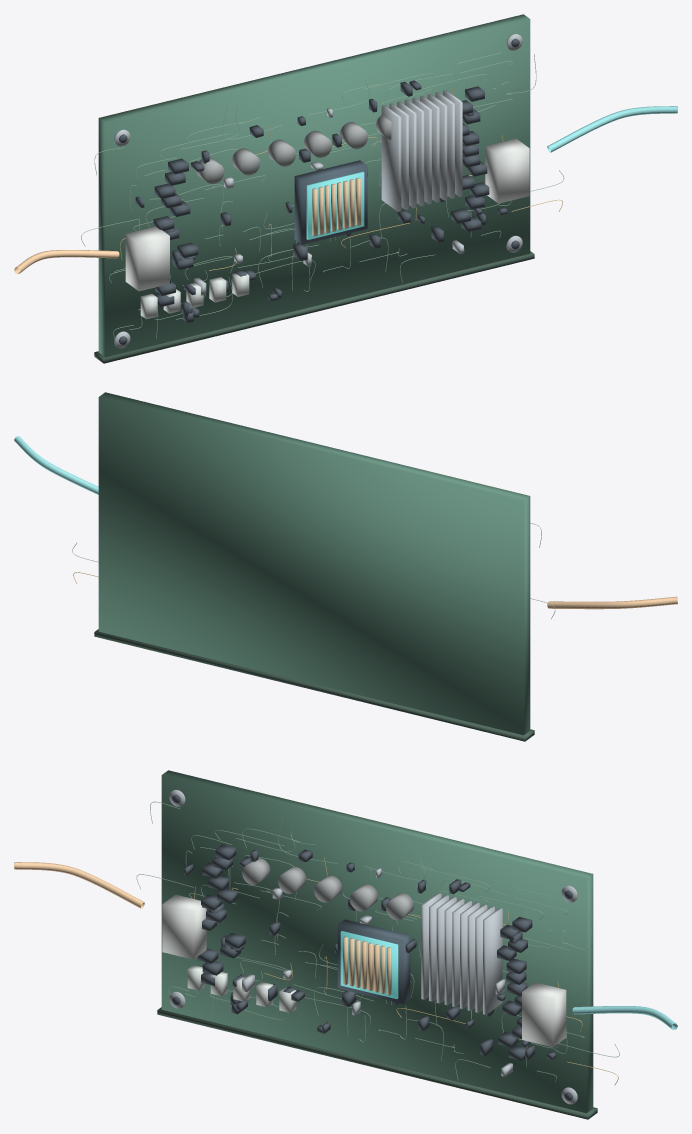
The model's file is pcb.glb.
3 views of the same model, one above another, from view 1: azimuth 30°, elevation 25°; view 2: azimuth 150°, elevation 25°; view 3: azimuth 330°, elevation 25° (orthographic).
Parts seen in each view (by area): view 1: pcb_node_0002, pcb_node_0003, pcb_node_0233, pcb_node_0234, pcb_node_0177, pcb_node_0213, pcb_node_0178, pcb_node_0236, pcb_node_0216, pcb_node_0219, pcb_node_0235, pcb_node_0220 (+9 smaller); view 2: pcb_node_0002, pcb_node_0003, pcb_node_0235, pcb_node_0236; view 3: pcb_node_0002, pcb_node_0003, pcb_node_0234, pcb_node_0233, pcb_node_0177, pcb_node_0221, pcb_node_0178, pcb_node_0235, pcb_node_0215, pcb_node_0216, pcb_node_0219, pcb_node_0213 (+10 smaller).
Boxes of the visible parts, bbox=[...] form: pcb_node_0002: bbox=[98, 14, 530, 357]; pcb_node_0003: bbox=[94, 251, 534, 363]; pcb_node_0233: bbox=[125, 226, 169, 291]; pcb_node_0234: bbox=[485, 138, 529, 203]; pcb_node_0177: bbox=[294, 160, 367, 244]; pcb_node_0213: bbox=[381, 105, 401, 211]; pcb_node_0178: bbox=[306, 171, 364, 239]; pcb_node_0236: bbox=[547, 106, 677, 152]; pcb_node_0216: bbox=[404, 99, 424, 206]; pcb_node_0219: bbox=[427, 94, 447, 200]; pcb_node_0235: bbox=[14, 250, 119, 273]; pcb_node_0220: bbox=[435, 92, 454, 198]; pcb_node_0002: bbox=[98, 392, 530, 735]; pcb_node_0003: bbox=[94, 629, 534, 741]; pcb_node_0235: bbox=[547, 596, 677, 609]; pcb_node_0236: bbox=[14, 436, 98, 494]; pcb_node_0002: bbox=[161, 770, 593, 1113]; pcb_node_0003: bbox=[157, 1007, 597, 1119]; pcb_node_0234: bbox=[522, 982, 566, 1047]; pcb_node_0233: bbox=[162, 894, 206, 959]; pcb_node_0177: bbox=[337, 919, 410, 1003]; pcb_node_0221: bbox=[483, 908, 502, 1014]; pcb_node_0178: bbox=[340, 931, 398, 998]; pcb_node_0235: bbox=[14, 862, 144, 908]; pcb_node_0215: bbox=[436, 896, 456, 1003]; pcb_node_0216: bbox=[444, 898, 464, 1005]; pcb_node_0219: bbox=[467, 904, 487, 1010]; pcb_node_0213: bbox=[421, 893, 441, 999].
Bounding box in the file's own units: 40.61 × 14 × 4.17.
